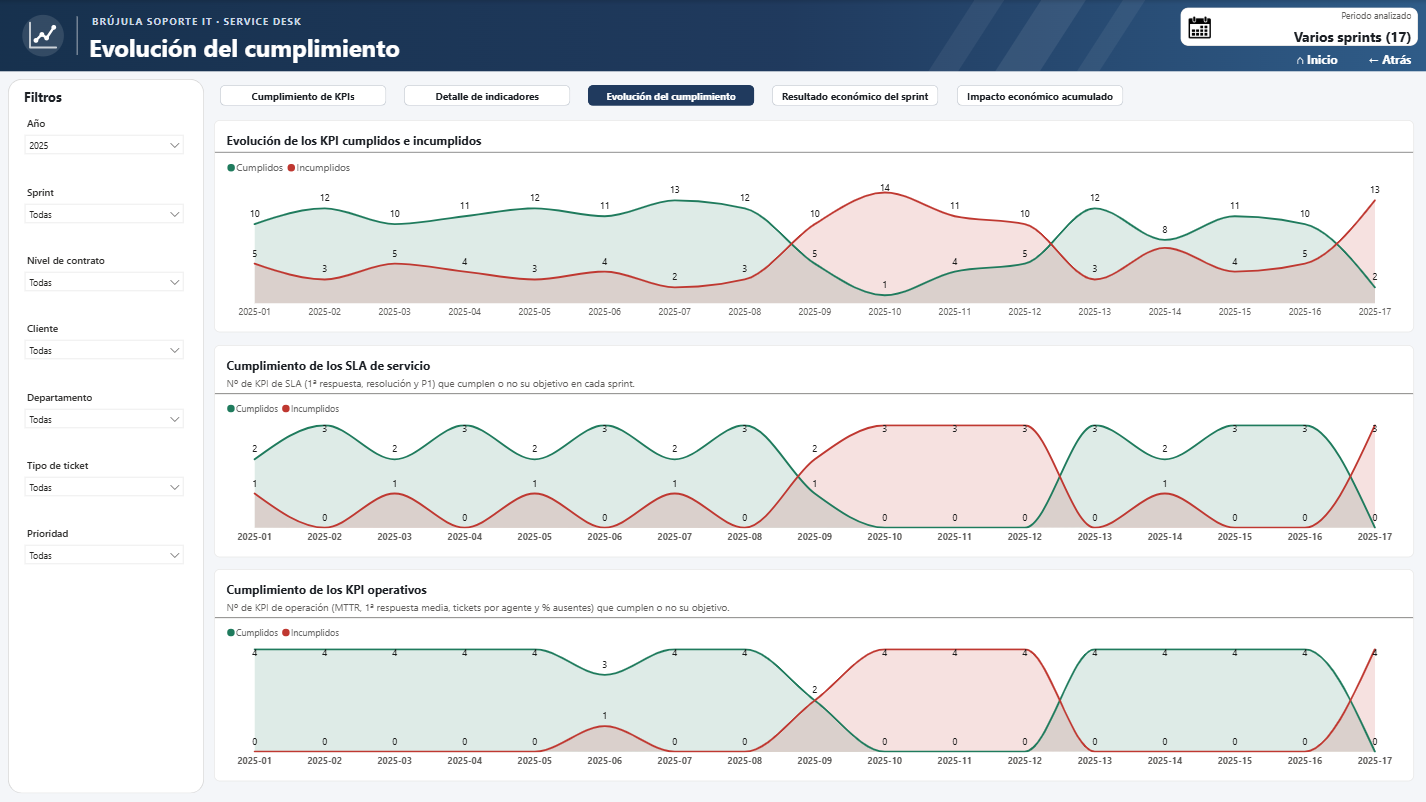

What the dashboard file says about the page in this screenshot:
{"tool":"powerbi","page":{"name":"Evolución del cumplimiento","canvas":[1920,1080],"ordinal":3},"visuals":[{"type":"shape","box":[10.9,106,263.9,962],"z":0},{"type":"textbox","box":[32,118,216,32],"z":1000},{"type":"slicer","fields":{"Values":["Sprint.Año"]},"box":[28,158,224,80],"z":2000},{"type":"slicer","fields":{"Values":["Sprint.Sprint"]},"box":[28,250,224,80],"z":3000},{"type":"slicer","fields":{"Values":["Cliente.Nivel de contrato"]},"box":[28,342,224,80],"z":4000},{"type":"slicer","fields":{"Values":["Cliente.Cliente"]},"box":[28,434,224,80],"z":5000},{"type":"slicer","fields":{"Values":["Departamento.Departamento"]},"box":[28,526,224,80],"z":6000},{"type":"slicer","fields":{"Values":["Política SLA.Tipo"]},"box":[28,618,224,80],"z":7000},{"type":"slicer","fields":{"Values":["Política SLA.Prioridad"]},"box":[28,710,224,80],"z":8000},{"type":"textbox","box":[120,42,1000,44],"z":9000},{"type":"lineChart","title":"Evolución de los KPI cumplidos e incumplidos","fields":{"Category":["Sprint.Sprint"],"Y":["Medidas.KPI Cumplido","Medidas.KPI Incumplido"]},"box":[288,162,1616,286],"z":10000},{"type":"lineChart","title":"Cumplimiento de los SLA de servicio","fields":{"Category":["Sprint.Sprint"],"Y":["Medidas.KPI Cumplido","Medidas.KPI Incumplido"]},"box":[288,464,1616,286],"z":11000},{"type":"lineChart","title":"Cumplimiento de los KPI operativos","fields":{"Category":["Sprint.Sprint"],"Y":["Medidas.KPI Cumplido","Medidas.KPI Incumplido"]},"box":[288,766,1616,286],"z":12000},{"type":"actionButton","box":[288,106,240,44],"z":13000},{"type":"actionButton","box":[536,106,240,44],"z":14000},{"type":"actionButton","box":[784,106,240,44],"z":15000},{"type":"actionButton","box":[1032,106,240,44],"z":16000},{"type":"actionButton","box":[1280,106,240,44],"z":17000},{"type":"cardVisual","fields":{"Data":["Medidas.Periodo seleccionado"]},"box":[1580,0,340,72],"z":17001},{"type":"actionButton","box":[1823,56.6,97,44.4],"z":17002},{"type":"actionButton","box":[1723.7,56.6,99.7,44.4],"z":17003}]}

Visuals, with their boxes on the page's 1920x1080 design canvas (x1, y1, x2, y2). These are canvas units, not pixel positions in the 1426x802 screenshot, which may show the page scaled, cropped or inside an application window:
shape: {"x1": 11, "y1": 106, "x2": 275, "y2": 1068}
textbox: {"x1": 32, "y1": 118, "x2": 248, "y2": 150}
slicer - Sprint.Año: {"x1": 28, "y1": 158, "x2": 252, "y2": 238}
slicer - Sprint.Sprint: {"x1": 28, "y1": 250, "x2": 252, "y2": 330}
slicer - Cliente.Nivel de contrato: {"x1": 28, "y1": 342, "x2": 252, "y2": 422}
slicer - Cliente.Cliente: {"x1": 28, "y1": 434, "x2": 252, "y2": 514}
slicer - Departamento.Departamento: {"x1": 28, "y1": 526, "x2": 252, "y2": 606}
slicer - Política SLA.Tipo: {"x1": 28, "y1": 618, "x2": 252, "y2": 698}
slicer - Política SLA.Prioridad: {"x1": 28, "y1": 710, "x2": 252, "y2": 790}
textbox: {"x1": 120, "y1": 42, "x2": 1120, "y2": 86}
"Evolución de los KPI cumplidos e incumplidos" lineChart: {"x1": 288, "y1": 162, "x2": 1904, "y2": 448}
"Cumplimiento de los SLA de servicio" lineChart: {"x1": 288, "y1": 464, "x2": 1904, "y2": 750}
"Cumplimiento de los KPI operativos" lineChart: {"x1": 288, "y1": 766, "x2": 1904, "y2": 1052}
actionButton: {"x1": 288, "y1": 106, "x2": 528, "y2": 150}
actionButton: {"x1": 536, "y1": 106, "x2": 776, "y2": 150}
actionButton: {"x1": 784, "y1": 106, "x2": 1024, "y2": 150}
actionButton: {"x1": 1032, "y1": 106, "x2": 1272, "y2": 150}
actionButton: {"x1": 1280, "y1": 106, "x2": 1520, "y2": 150}
cardVisual - Medidas.Periodo seleccionado: {"x1": 1580, "y1": 0, "x2": 1920, "y2": 72}
actionButton: {"x1": 1823, "y1": 57, "x2": 1920, "y2": 101}
actionButton: {"x1": 1724, "y1": 57, "x2": 1823, "y2": 101}
